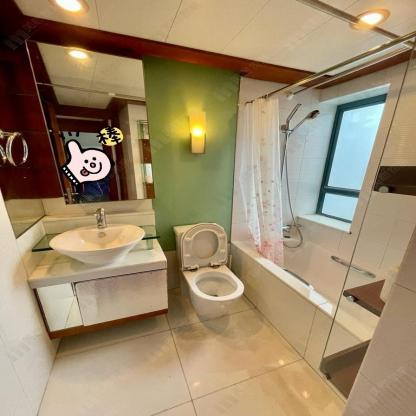Bathtub: (229, 235, 387, 371)
Faucet: (90, 206, 108, 231)
Toilet: (171, 221, 245, 319)
Toilet Sink: (49, 222, 144, 265)
